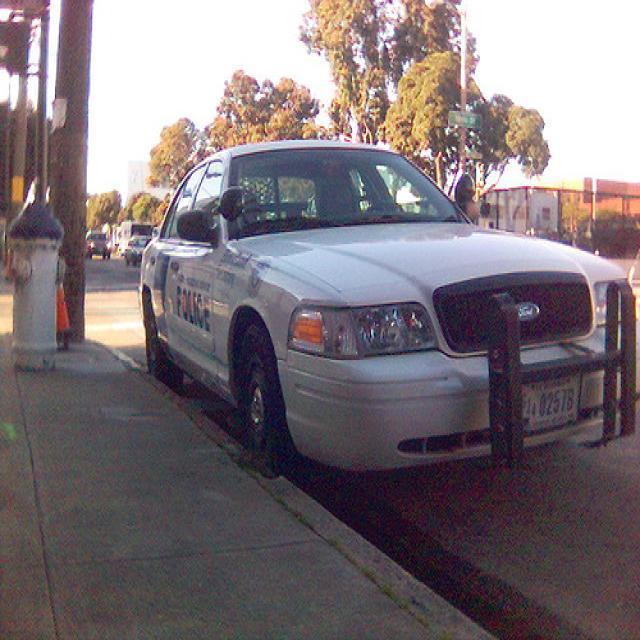fire_hydrant: (2, 168, 78, 370)
